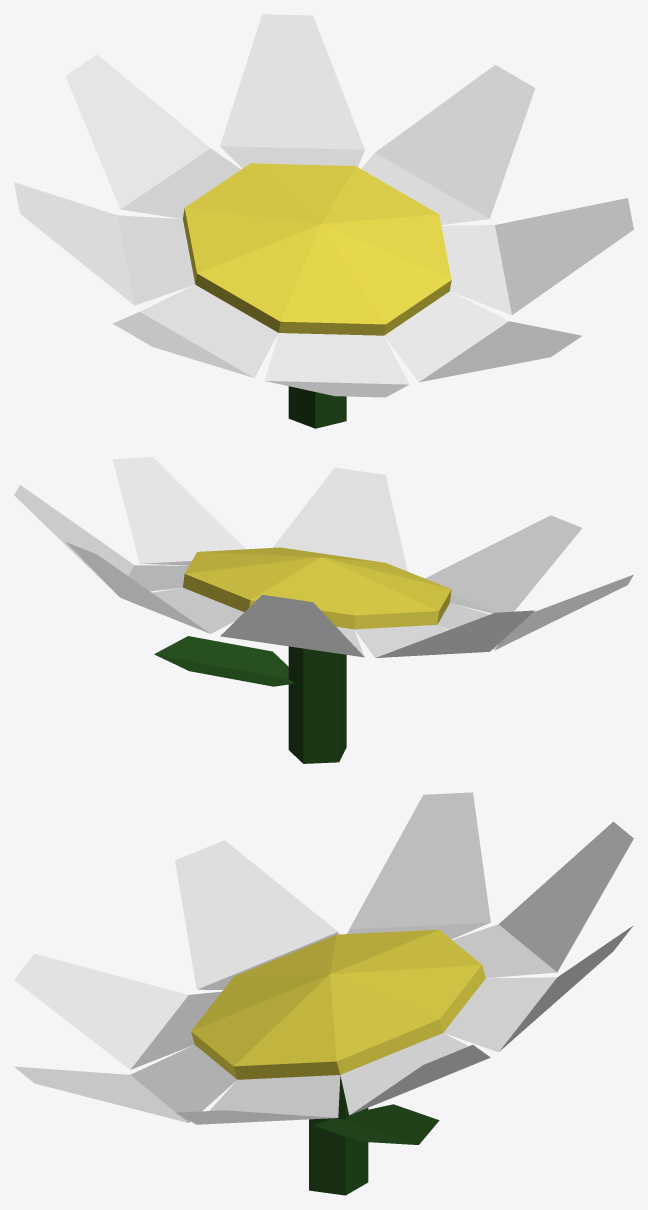
The model's file is rock_kicking_park_flower.glb.
3 renders of one model, top to bottom at view 1: azimuth 30°, elevation 25°; view 2: azimuth 150°, elevation 25°; view 3: azimuth 270°, elevation 25°, orthographic. The views are drawn at different scales.
Visible parts, largest first — view 1: Flower; view 2: Flower; view 3: Flower.
Part boxes in pixels (x1,y1,x2,y2): Flower: (14, 14, 633, 428); Flower: (14, 457, 633, 763); Flower: (14, 792, 633, 1195).
Size of the model in its own units: 0.6184 by 0.3208 by 0.5997.
